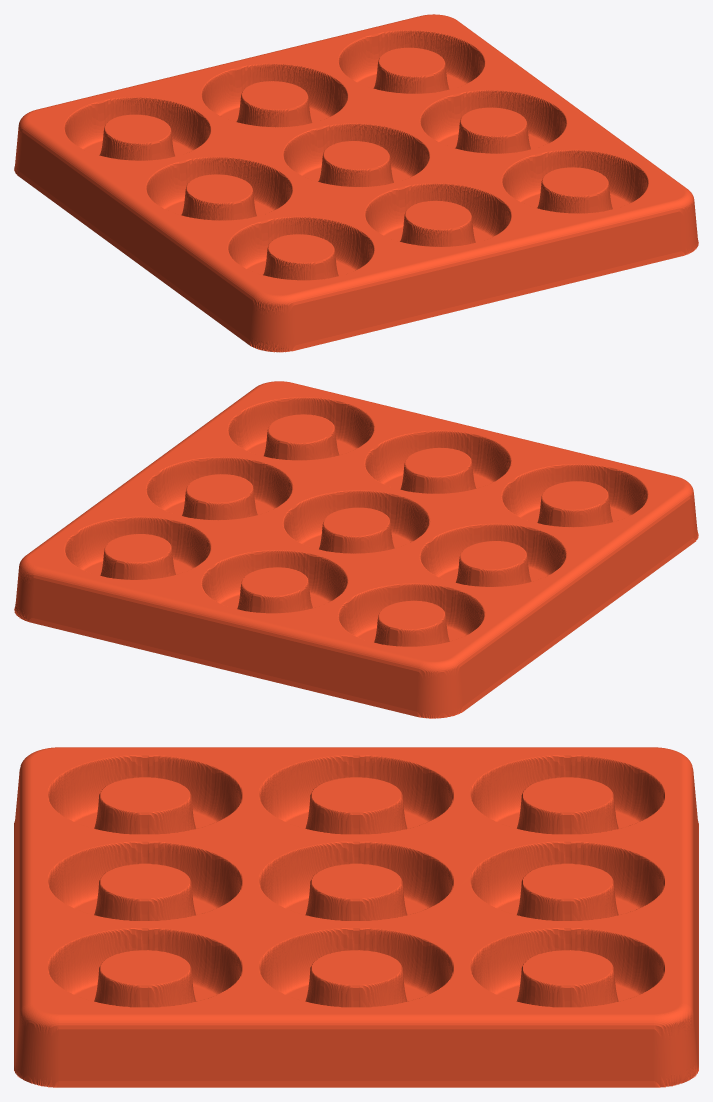
Rendered from mold.glb.
3 renders of one model, top to bottom at view 1: azimuth 30°, elevation 25°; view 2: azimuth 150°, elevation 25°; view 3: azimuth 270°, elevation 25°, orthographic. The views are drawn at different scales.
Visible parts, largest first — view 1: geometry_0; view 2: geometry_0; view 3: geometry_0.
Part boxes in pixels (x1,y1,x2,y2): geometry_0: [14, 14, 698, 352]; geometry_0: [14, 381, 698, 718]; geometry_0: [14, 747, 698, 1087].
Bounding box in the file's own units: 0.1324 × 0.0145 × 0.1365.
